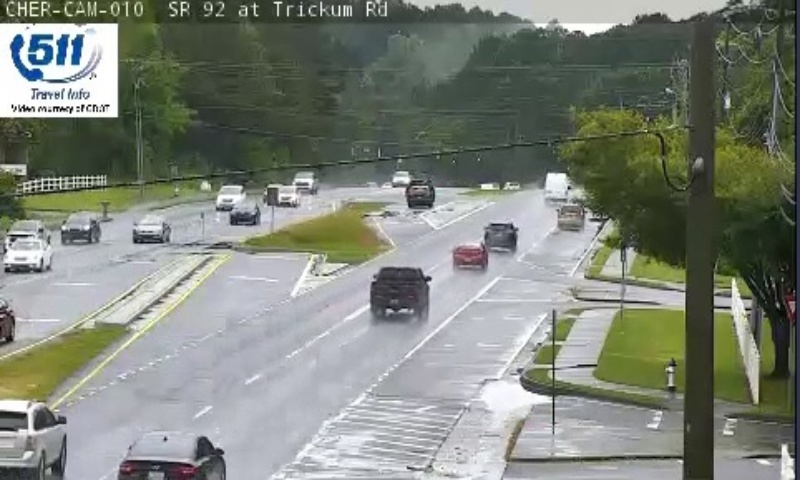car: (116, 433, 227, 480), (370, 267, 430, 312), (484, 222, 518, 251), (452, 243, 488, 270), (557, 202, 584, 227)
